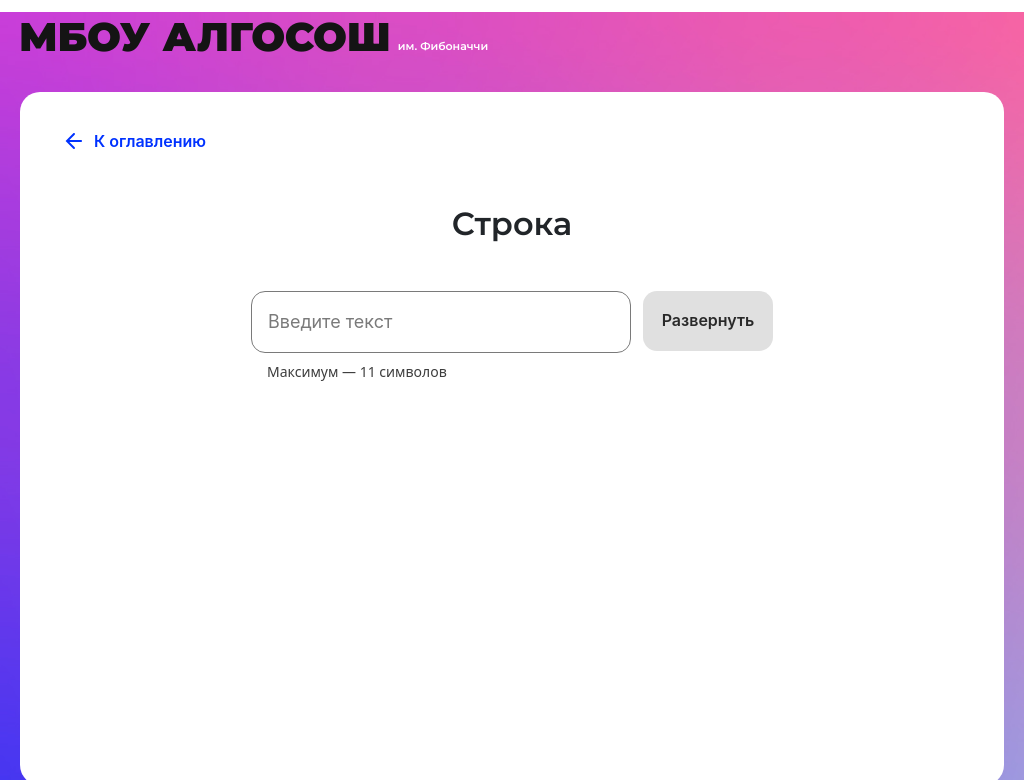
Test: string page works correctly › recursion works correctly
The width and height of the screenshot is (1024, 780).
Type "string" into the field with placeholder "Введите текст" at (441, 322), box [251, 291, 631, 353]
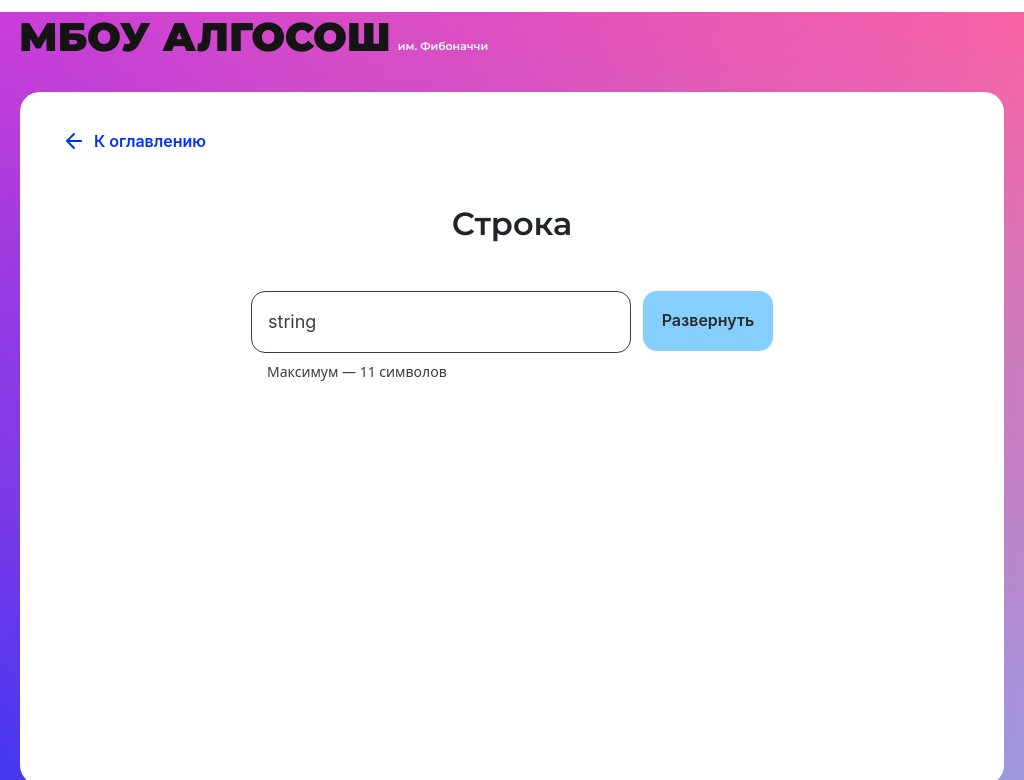
Click the button "Развернуть" at (708, 321), box [643, 291, 773, 351]
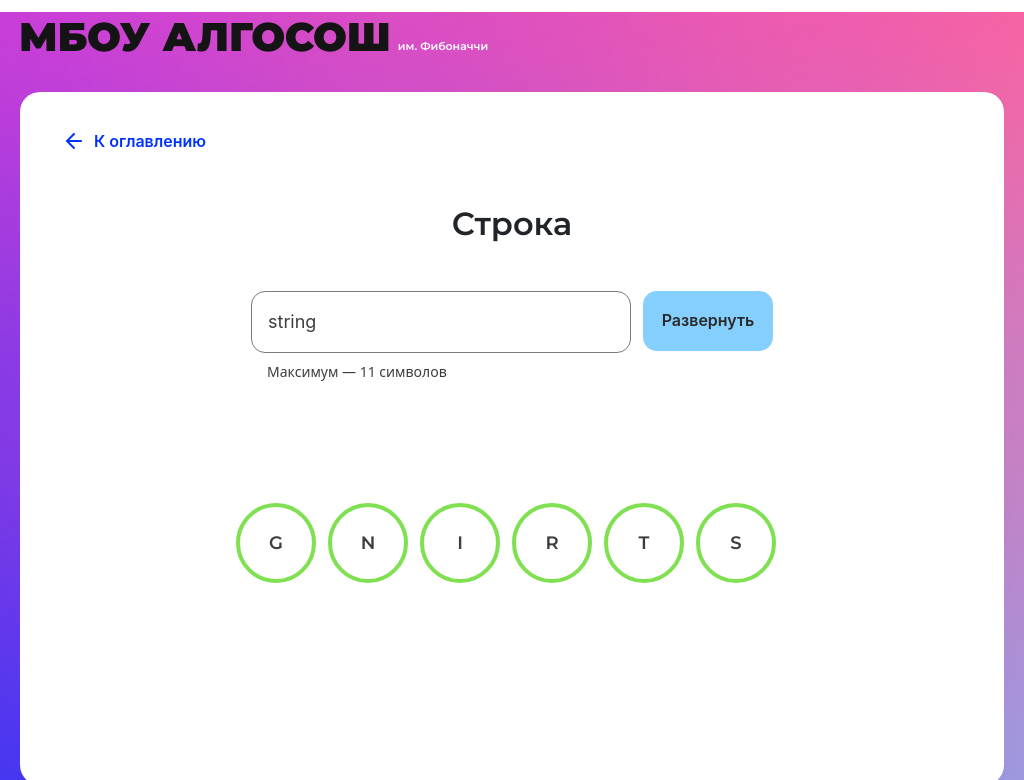
Now the text "g" is shown, box [269, 532, 283, 554]
Now the text "s" is shown, box [730, 532, 742, 554]
Now the text "n" is shown, box [361, 532, 375, 554]
